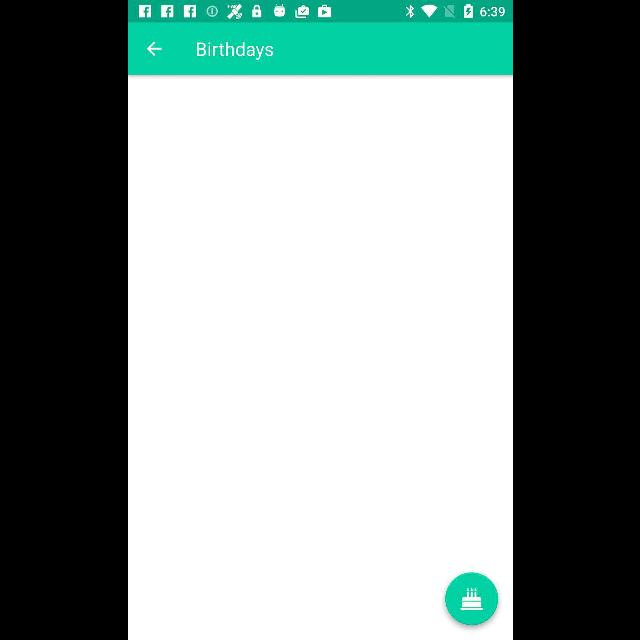button: (444, 572, 498, 626)
icon: (146, 42, 162, 56)
text: (195, 41, 272, 60)
toolbar: (128, 23, 512, 75)
uppertaskbar: (128, 1, 512, 23)
